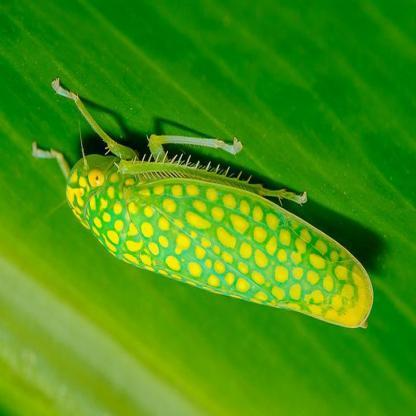green-leafhopper: (60, 102, 372, 330)
